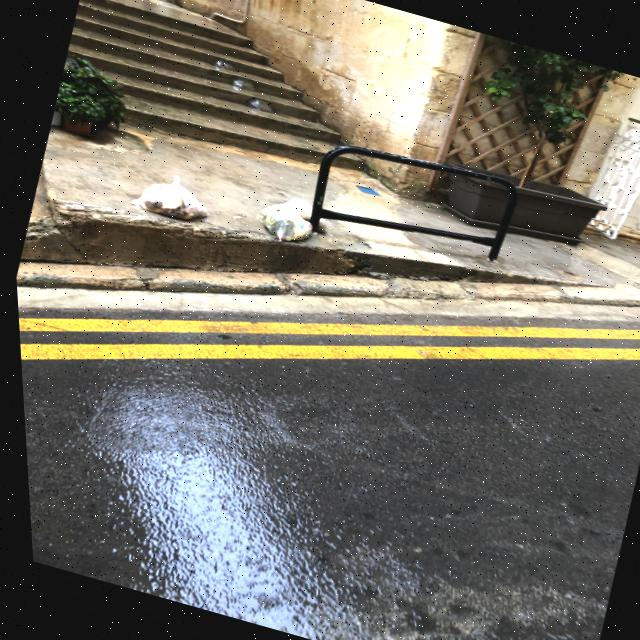Organic Waste -White Bag-: (248, 186, 321, 252), (133, 172, 214, 230)
